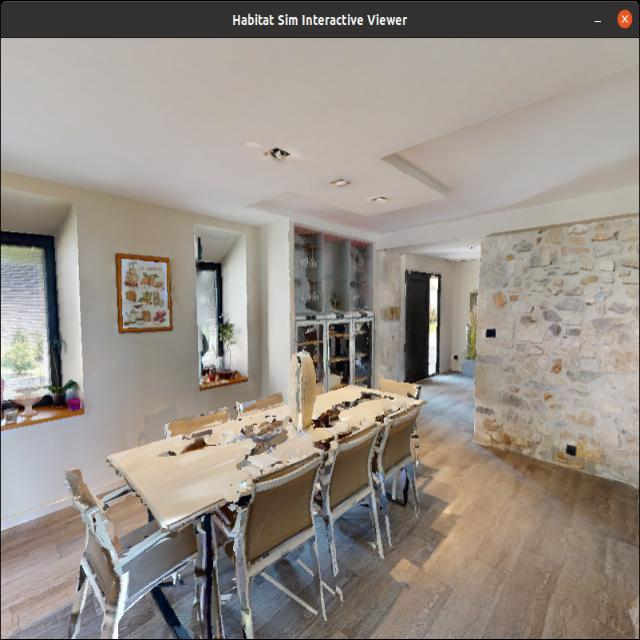chair: (56, 457, 212, 640), (200, 447, 335, 628), (308, 409, 412, 581)
door-frame: (385, 229, 489, 448)
table: (100, 353, 446, 640)
